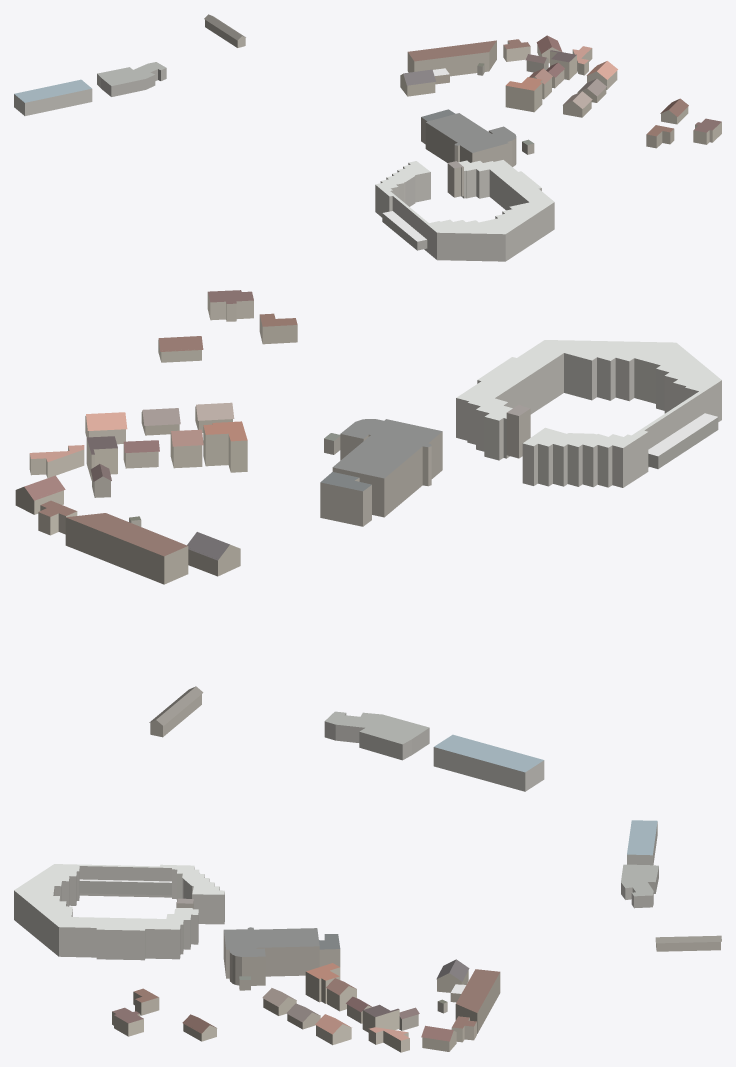
3 renders of one model, top to bottom at view 1: azimuth 30°, elevation 25°; view 2: azimuth 150°, elevation 25°; view 3: azimuth 270°, elevation 25°, orthographic. The views are drawn at different scales.
Visible parts, largest first — view 1: tuile; view 2: tuile; view 3: tuile.
Boxes of the visible parts, x1,y1,x2,y2 form: tuile: [14, 14, 721, 261]; tuile: [15, 290, 721, 791]; tuile: [14, 820, 721, 1052].
Bounding box in the file's own units: 242 × 25.71 × 295.
